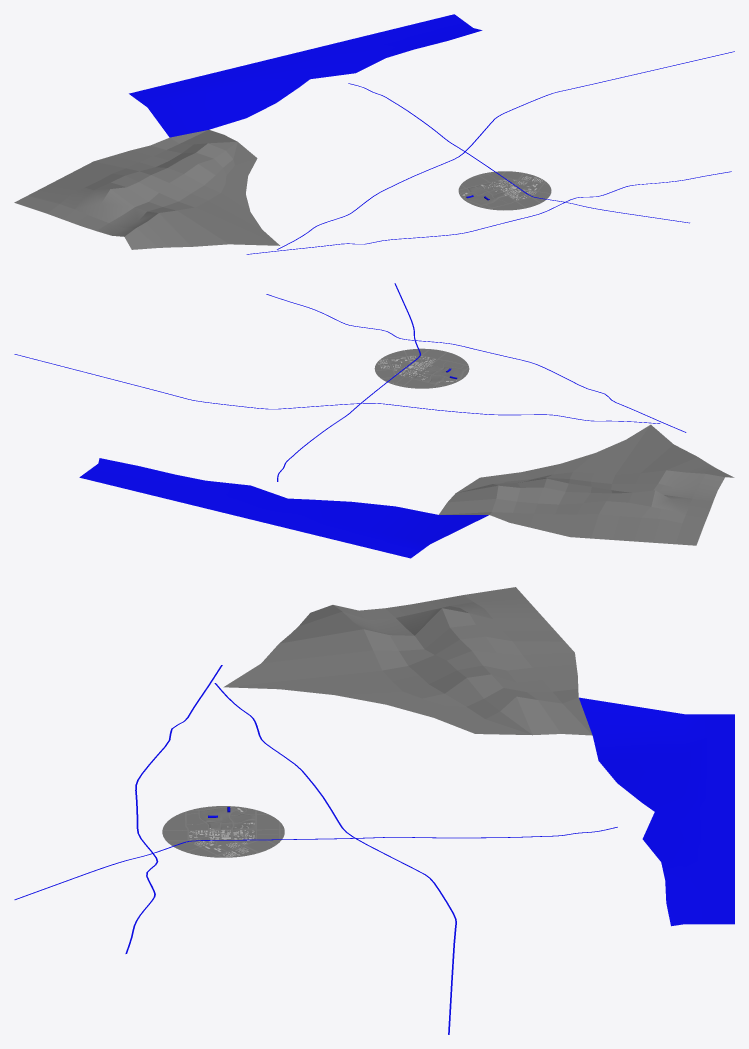
The model's file is airSpace_11.glb.
3 renders of one model, top to bottom at view 1: azimuth 30°, elevation 25°; view 2: azimuth 150°, elevation 25°; view 3: azimuth 270°, elevation 25°, orthographic. The views are drawn at different scales.
Parts seen in each view (by area): view 1: mountain, ocean, lots, STREETS, fwy_405, fwy_5, fwy_55, flat_buildings; view 2: mountain, ocean, lots, fwy_405, STREETS, fwy_5; view 3: mountain, ocean, lots, STREETS, fwy_405, fwy_55.
Boxes of the visible parts, x1,y1,x2,y2 form: mountain: [14, 130, 279, 249]; ocean: [129, 14, 482, 137]; lots: [458, 171, 551, 210]; STREETS: [458, 171, 550, 209]; fwy_405: [277, 51, 734, 249]; fwy_5: [246, 171, 731, 254]; fwy_55: [348, 83, 689, 223]; flat_buildings: [462, 176, 542, 200]; mountain: [439, 424, 734, 545]; ocean: [79, 458, 488, 558]; lots: [374, 348, 469, 388]; fwy_405: [14, 354, 660, 423]; STREETS: [375, 349, 468, 388]; fwy_5: [266, 294, 686, 432]; mountain: [223, 587, 592, 735]; ocean: [579, 697, 734, 926]; lots: [163, 806, 284, 857]; STREETS: [162, 806, 284, 857]; fwy_405: [214, 683, 456, 1034]; fwy_55: [14, 827, 617, 899].
Bounding box in the file's own units: 12132 × 341 × 8251.
